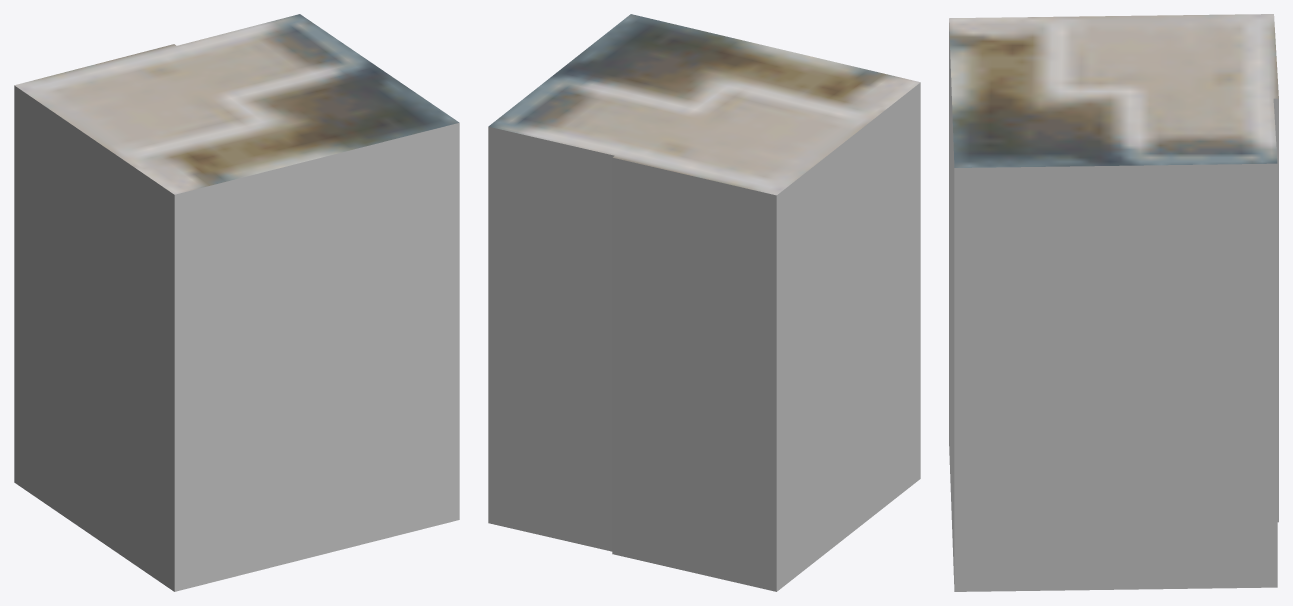
The model's file is DEBW_001000oSgUA.gltf.
3 renders of one model, left to right at view 1: azimuth 30°, elevation 25°; view 2: azimuth 150°, elevation 25°; view 3: azimuth 270°, elevation 25°, orthographic. The views are drawn at different scales.
Visible parts, largest first — view 1: Z_UP; view 2: Z_UP; view 3: Z_UP.
Part boxes in pixels (bbox=[...]): Z_UP: bbox=[14, 14, 459, 591]; Z_UP: bbox=[488, 14, 920, 591]; Z_UP: bbox=[949, 14, 1278, 591].
Size of the model in its own units: 7.38 by 9.47 by 6.68.
Materials: 2 (1 with a texture image).
